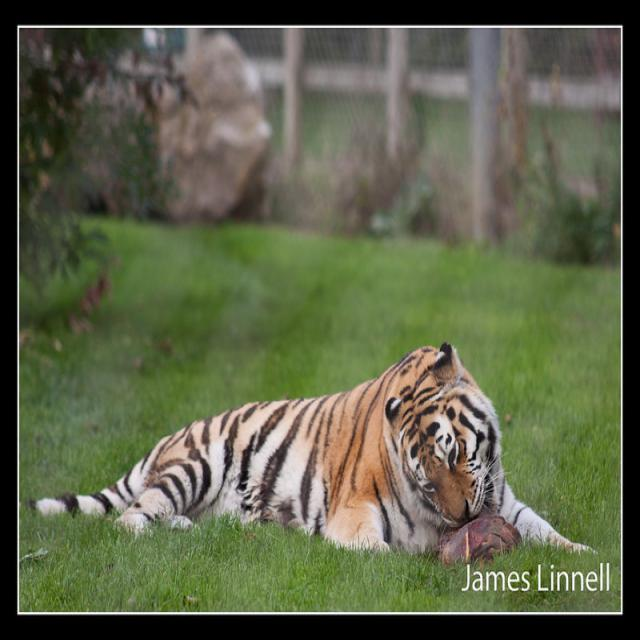Tiger: (20, 334, 602, 566)
